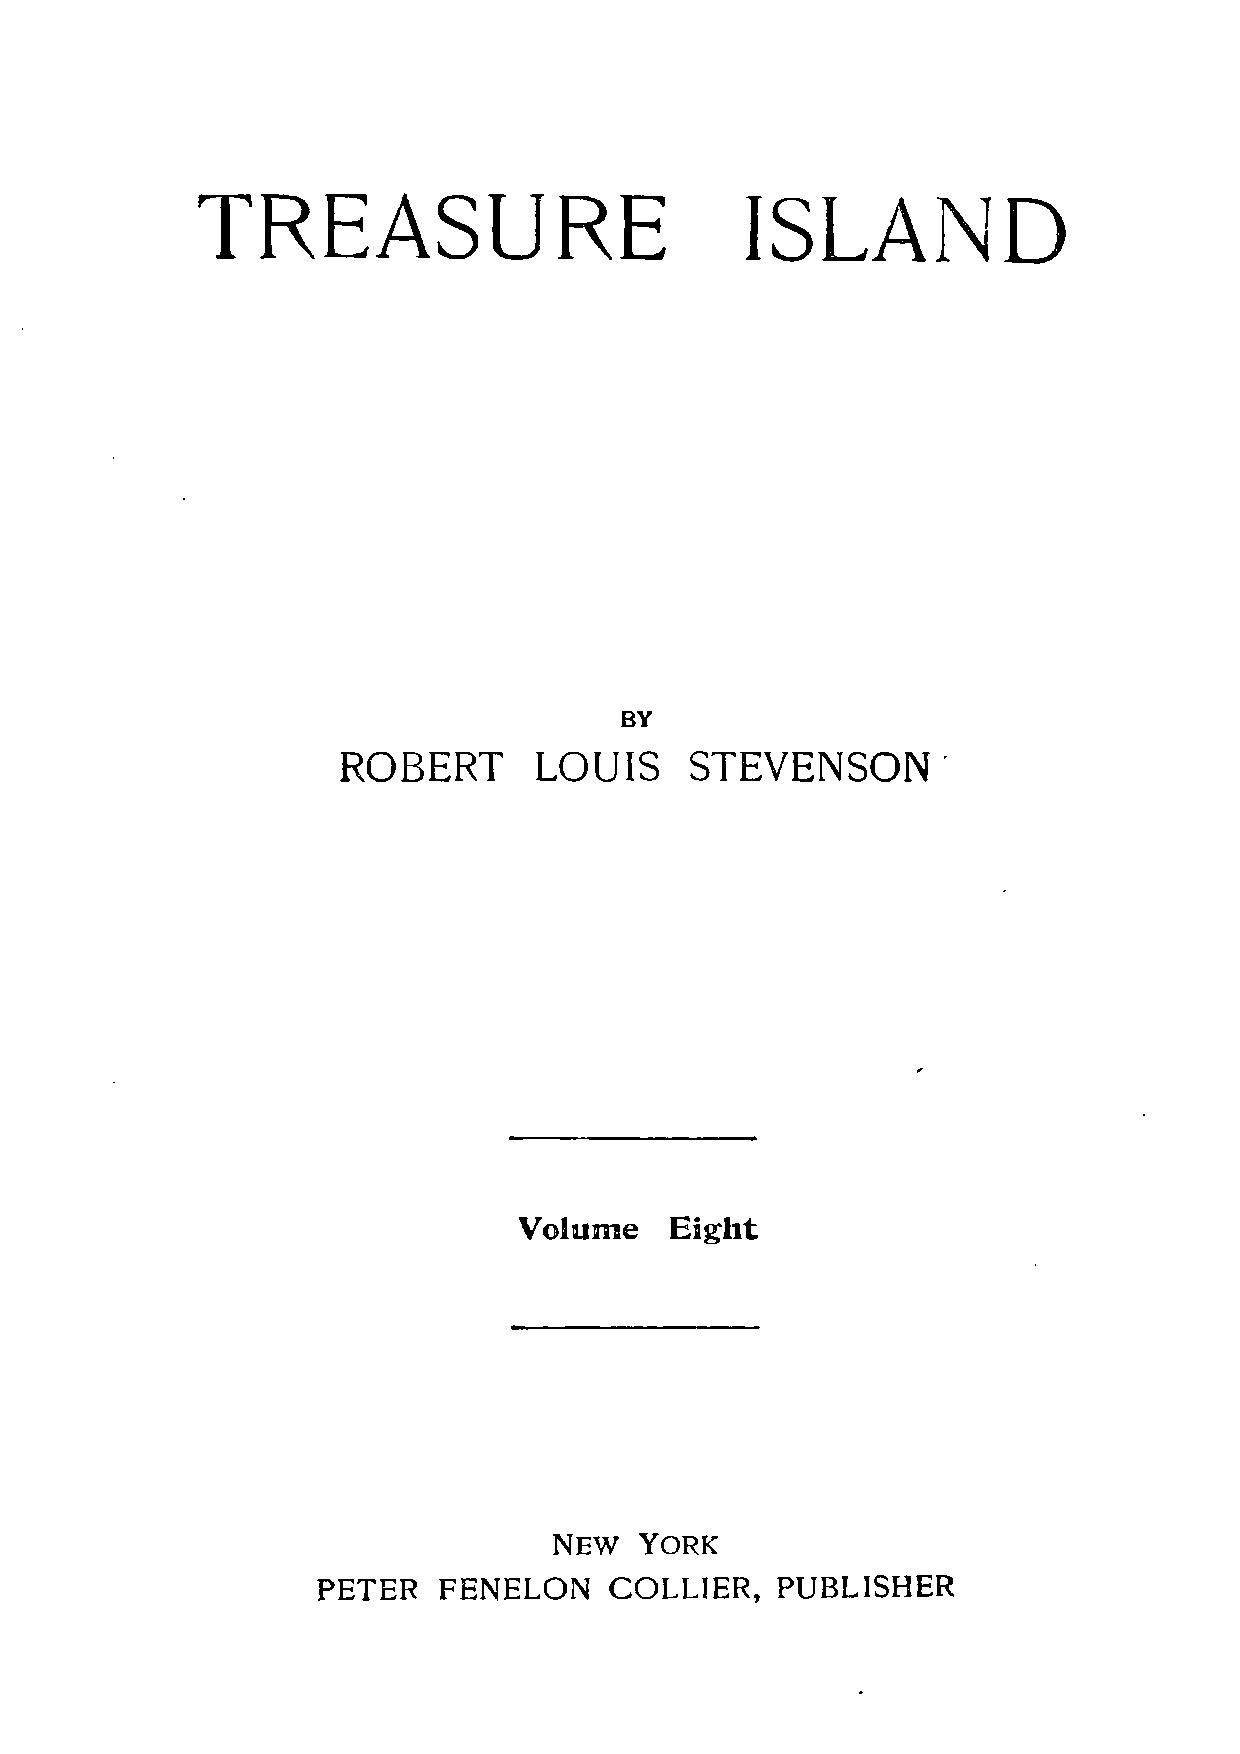author: (338, 707, 929, 786)
title: (191, 189, 1070, 268)
